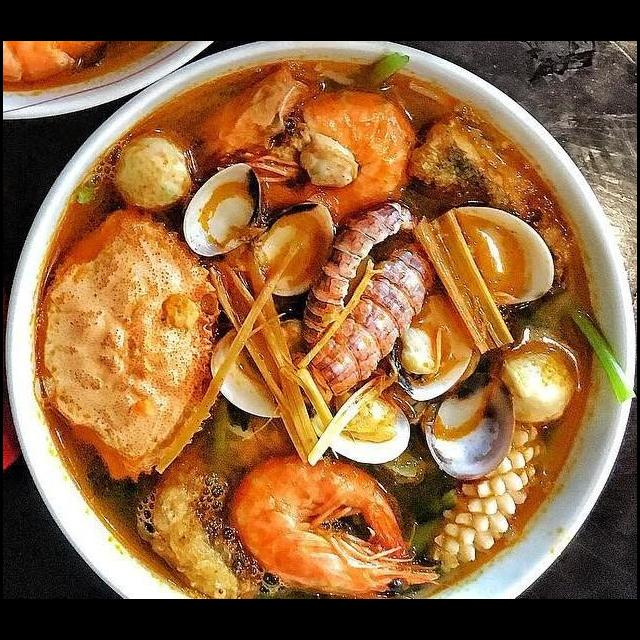ca: (401, 113, 580, 319)
tom: (224, 450, 445, 599), (200, 85, 424, 227)
tom tit: (304, 228, 445, 405), (292, 195, 424, 362)
